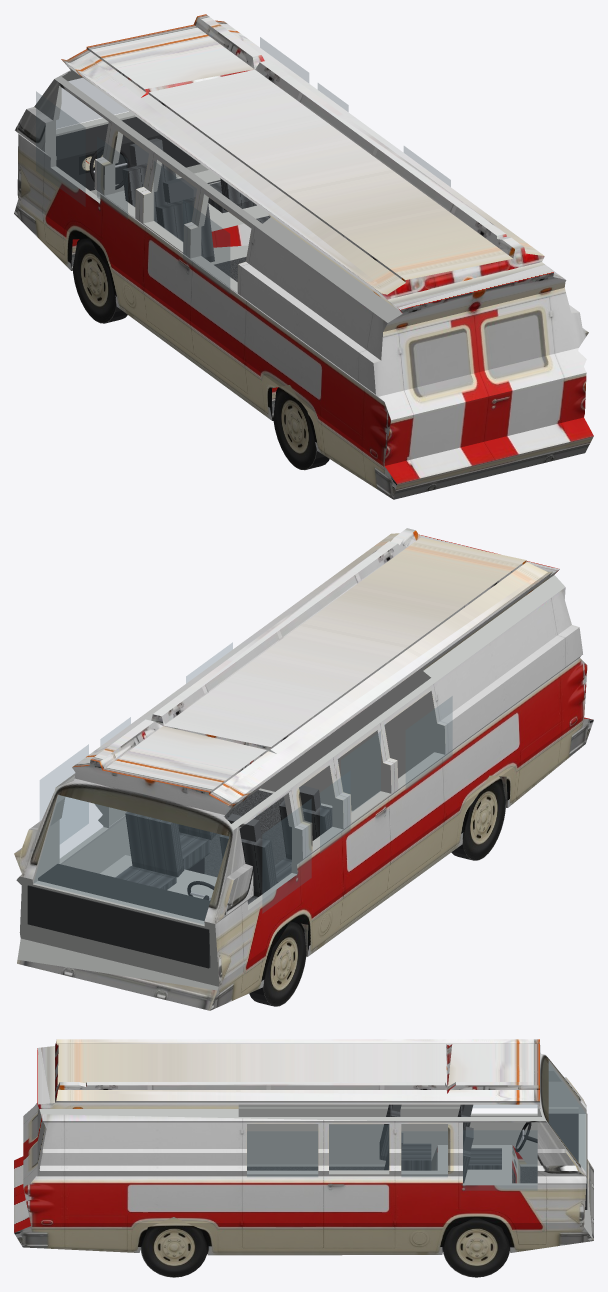
File: ambulance.glb
The picture shows the model from 3 angles, top to bottom: view 1: azimuth 30°, elevation 25°; view 2: azimuth 150°, elevation 25°; view 3: azimuth 270°, elevation 25°; orthographic projection. The views are drawn at different scales.
Parts seen in each view (by area): view 1: ambulance, ambulance_cabin, wheel_BL, wheel_FL; view 2: ambulance, ambulance_cabin, wheel_FL, wheel_BL; view 3: ambulance, ambulance_cabin, wheel_FR, wheel_BR.
Boxes of the visible parts, bbox=[...] form: ambulance: bbox=[14, 14, 593, 499]; ambulance_cabin: bbox=[36, 37, 450, 293]; wheel_BL: bbox=[273, 385, 329, 470]; wheel_FL: bbox=[72, 238, 127, 323]; ambulance: bbox=[14, 528, 593, 1010]; ambulance_cabin: bbox=[27, 642, 452, 968]; wheel_FL: bbox=[249, 921, 306, 1006]; wheel_BL: bbox=[451, 775, 505, 860]; ambulance: bbox=[14, 1039, 593, 1255]; ambulance_cabin: bbox=[247, 1063, 587, 1209]; wheel_FR: bbox=[443, 1217, 509, 1277]; wheel_BR: bbox=[140, 1217, 207, 1277].
Bounding box in the file's own units: 2.35 × 2.39 × 6.99.
Materials: 12 (4 with a texture image).
